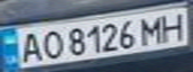1: (81, 21, 103, 55)
2: (100, 19, 124, 52)
6: (115, 16, 142, 48)
8: (63, 24, 87, 56)
A: (12, 29, 45, 64)
H: (157, 9, 190, 43)
M: (136, 12, 169, 45)
O: (36, 27, 66, 61)
